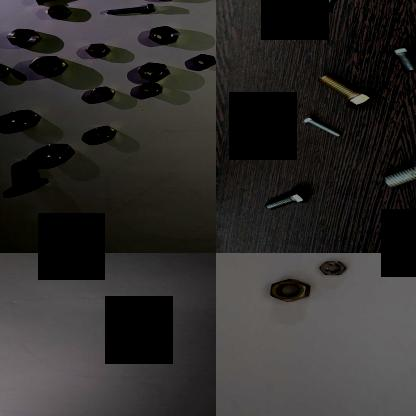Bolts: (313, 66, 379, 112), (228, 113, 272, 152), (300, 112, 350, 142), (261, 185, 311, 212), (379, 151, 416, 187), (10, 156, 49, 190), (382, 43, 416, 77), (102, 2, 163, 18), (26, 0, 86, 7), (314, 0, 346, 12)
NUTS: (265, 276, 311, 302), (29, 53, 69, 78), (138, 58, 176, 84), (142, 22, 182, 46), (40, 140, 76, 165), (81, 124, 121, 146), (5, 107, 42, 130), (3, 27, 41, 48), (183, 49, 216, 73), (317, 256, 349, 278), (44, 1, 72, 21), (137, 81, 167, 97), (86, 40, 112, 58), (88, 85, 116, 101), (0, 61, 12, 79)
